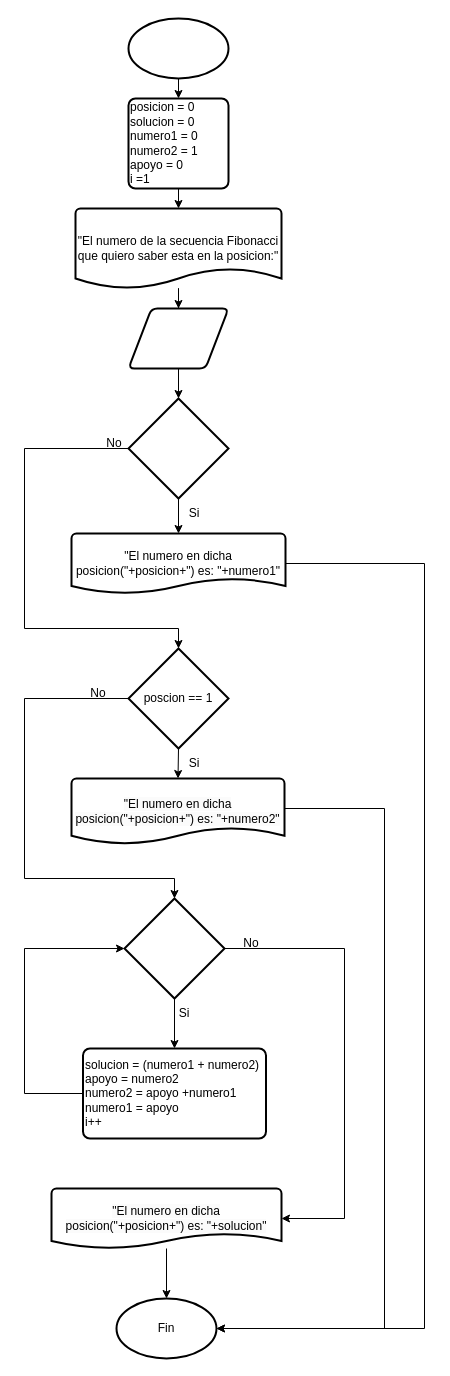
Some shapes in this 450 by 1376 pixel diagram are drawn without their labels. Here are the shapes that lost their labels. From the top down, the centre of each, then its label:
At [178,48]: "Inicio".
At [178,338]: "posicion".
At [178,448]: "posicion == 0".
At [174,948]: "i <= posicion -1".
